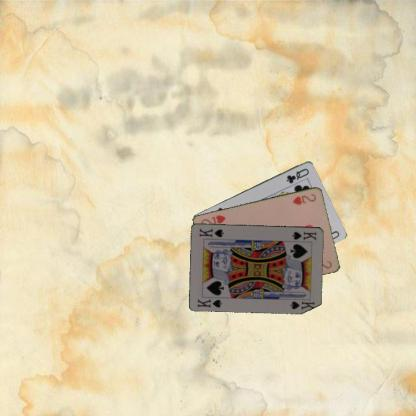2h: (290, 191, 317, 206)
Ks: (289, 229, 318, 241), (195, 297, 223, 308)
Qc: (284, 166, 310, 184)
